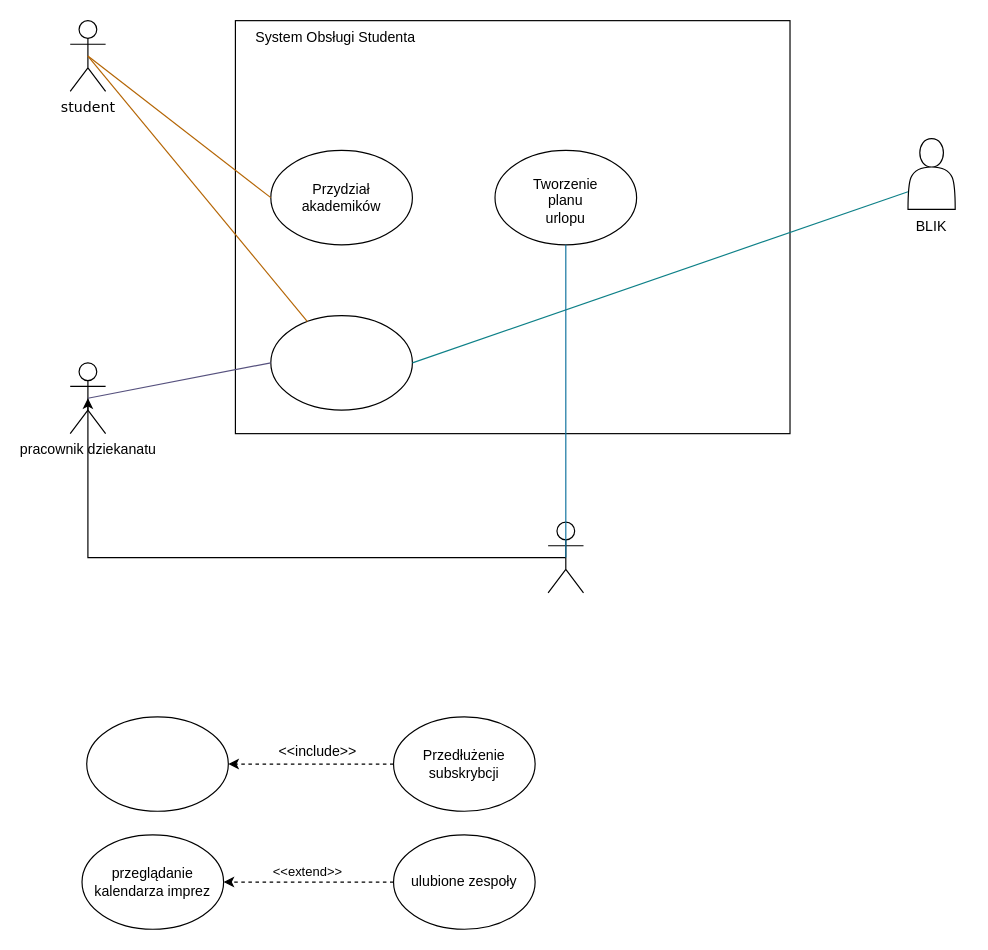
This 988x950 diagram has some shape labels left out. Here are the shapes that lost their labels. From the top down, the centre of each, then its label:
At pixel 341 362: "Zapisy na zajęcia".
At pixel 565 557: "kierownik dz.".
At pixel 157 763: "Dokonanie płatności".
